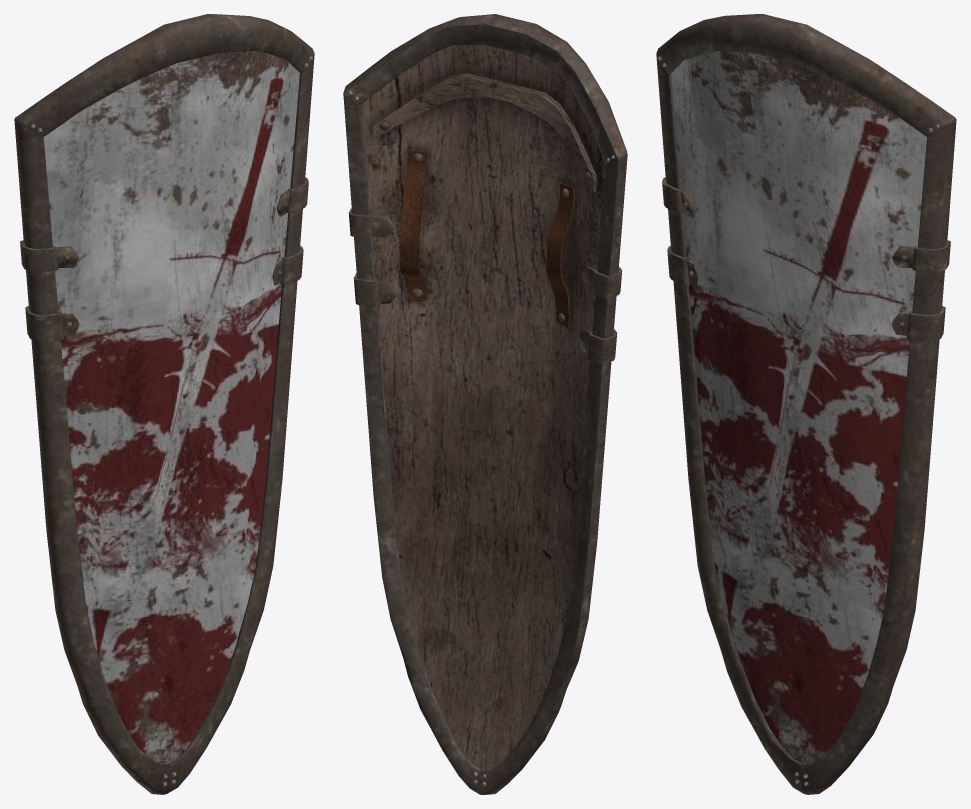
Rendered from ph_kite_shield.glb.
3 renders of one model, left to right at view 1: azimuth 30°, elevation 25°; view 2: azimuth 150°, elevation 25°; view 3: azimuth 330°, elevation 25°, orthographic. The views are drawn at different scales.
Visible parts, largest first — view 1: kite_shield_body, kite_shield_metal_trim, kite_shield_clamps_and_bolts; view 2: kite_shield_body, kite_shield_metal_trim, kite_shield_clamps_and_bolts; view 3: kite_shield_body, kite_shield_metal_trim, kite_shield_clamps_and_bolts.
Part boxes in pixels (left/top/right/bottom): kite_shield_body: left=43, top=51, right=300, bottom=764; kite_shield_metal_trim: left=14, top=14, right=314, bottom=794; kite_shield_clamps_and_bolts: left=20, top=56, right=312, bottom=786; kite_shield_body: left=361, top=24, right=619, bottom=770; kite_shield_metal_trim: left=343, top=14, right=627, bottom=794; kite_shield_clamps_and_bolts: left=348, top=91, right=622, bottom=785; kite_shield_body: left=671, top=51, right=927, bottom=764; kite_shield_metal_trim: left=656, top=14, right=956, bottom=794; kite_shield_clamps_and_bolts: left=657, top=56, right=950, bottom=786.
Bounding box in the file's own units: 0.5433 × 1.39 × 0.1347.
2 materials, 2 textured.
